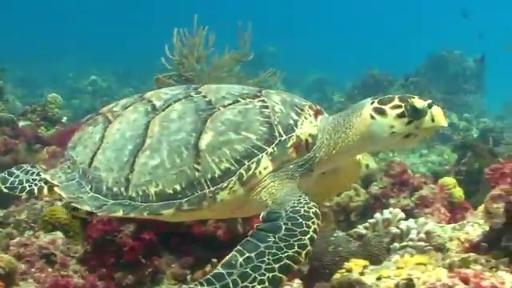Fish: (0, 85, 447, 287)
